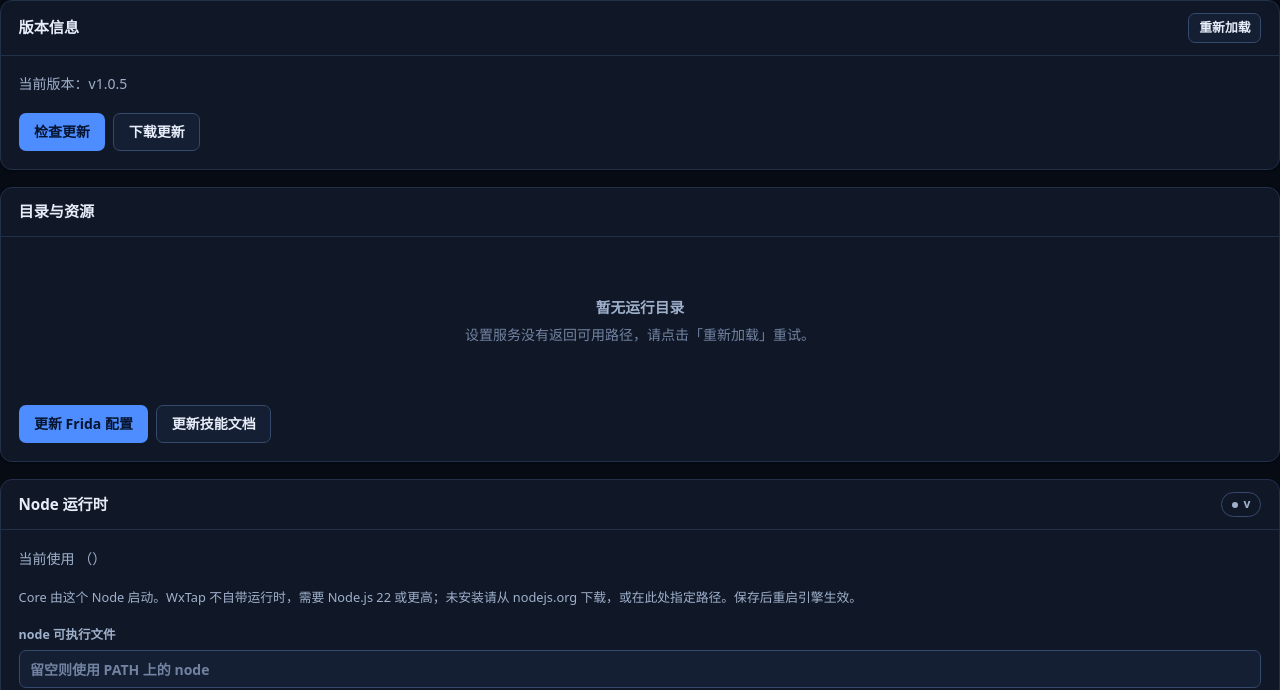
Test: SettingsView › surfaces a check failure inline instead of throwing
Click the button with test id "check-version" at point(62, 132), box [19,113,105,151]
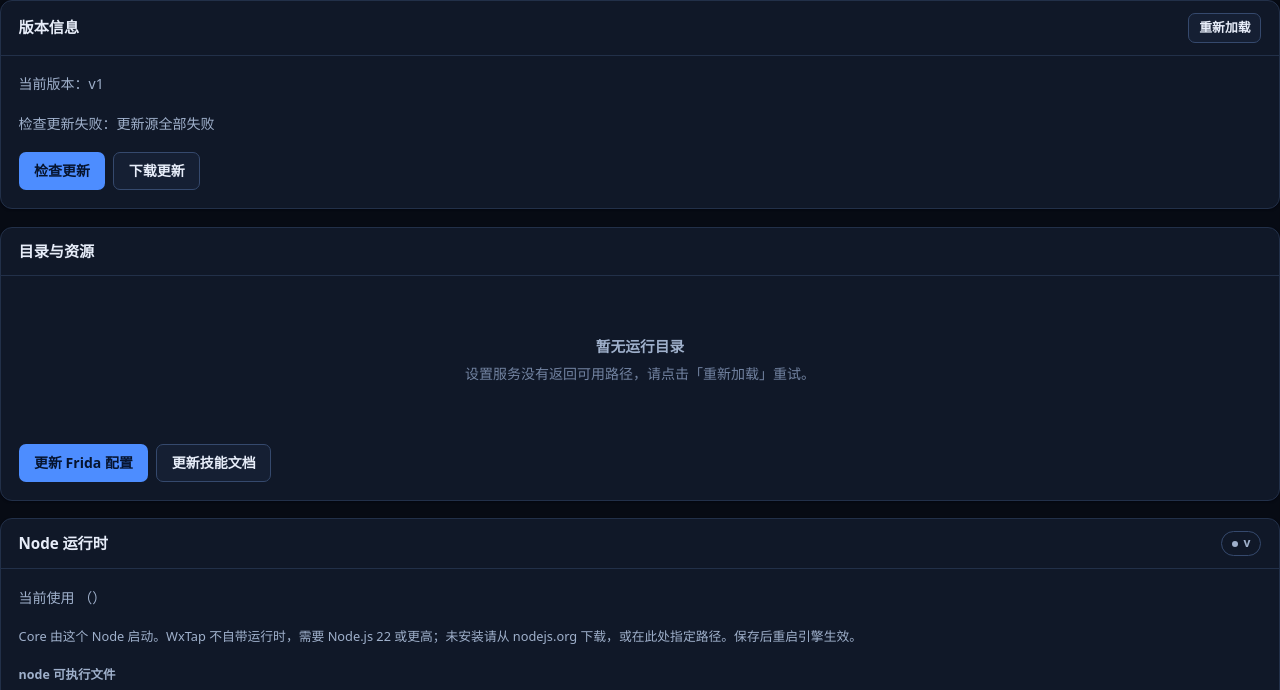
Now the text "检查更新失败：更新源全部失败" is shown, box [19,114,215,133]
